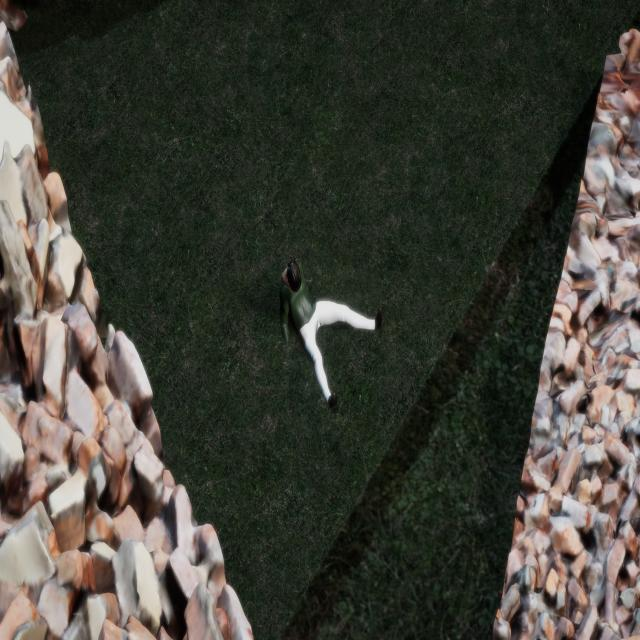Human: (269, 253, 392, 419)
